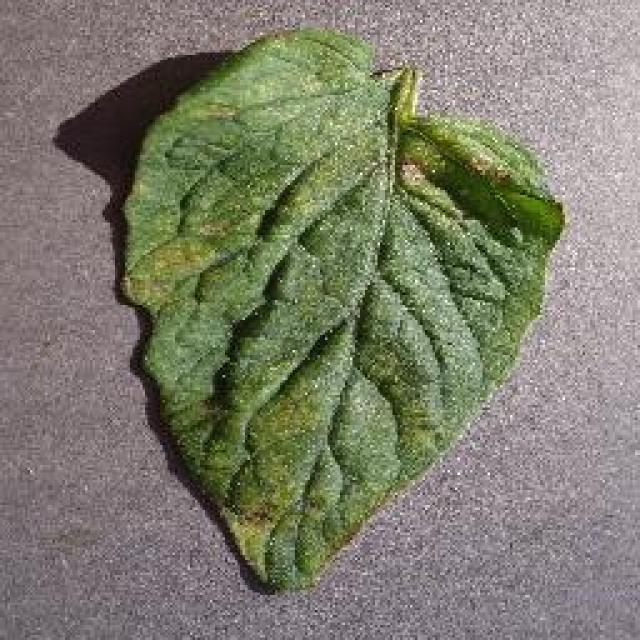Tomato___Spider_mites Two-spotted_spider_mite: (122, 30, 562, 588)
